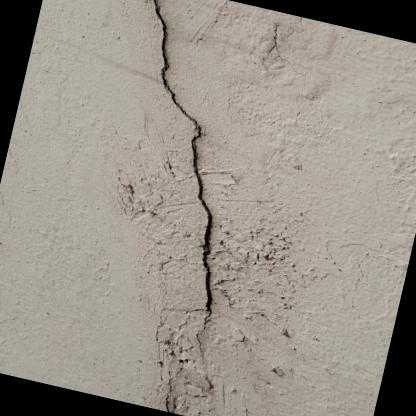crack: (153, 0, 213, 312)
